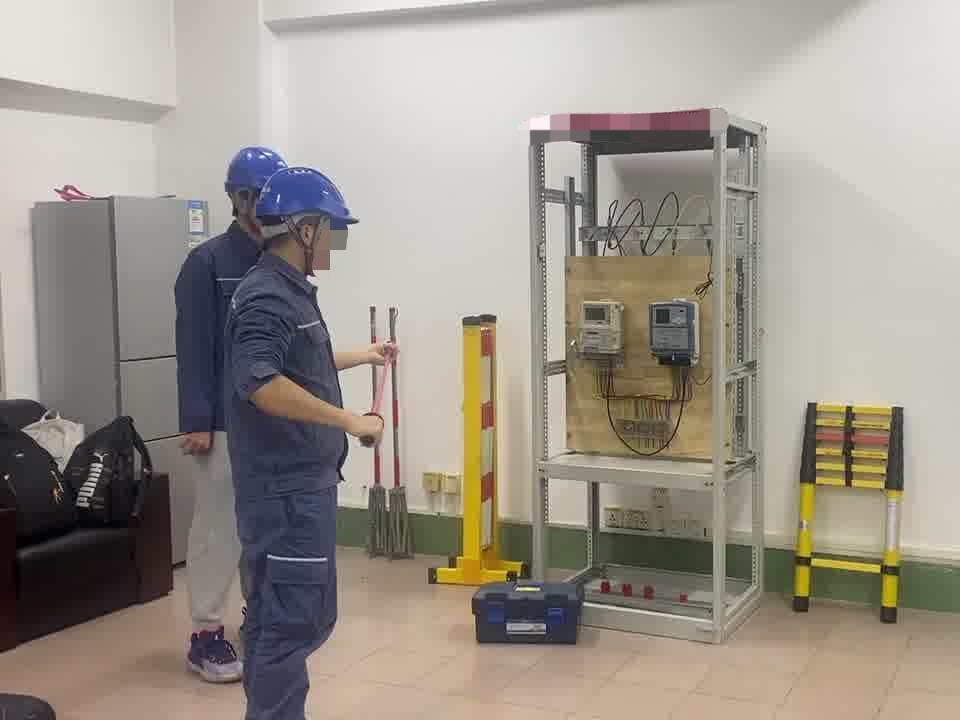halt: (257, 166, 359, 283), (223, 146, 289, 233)
inear: (288, 215, 331, 278)
